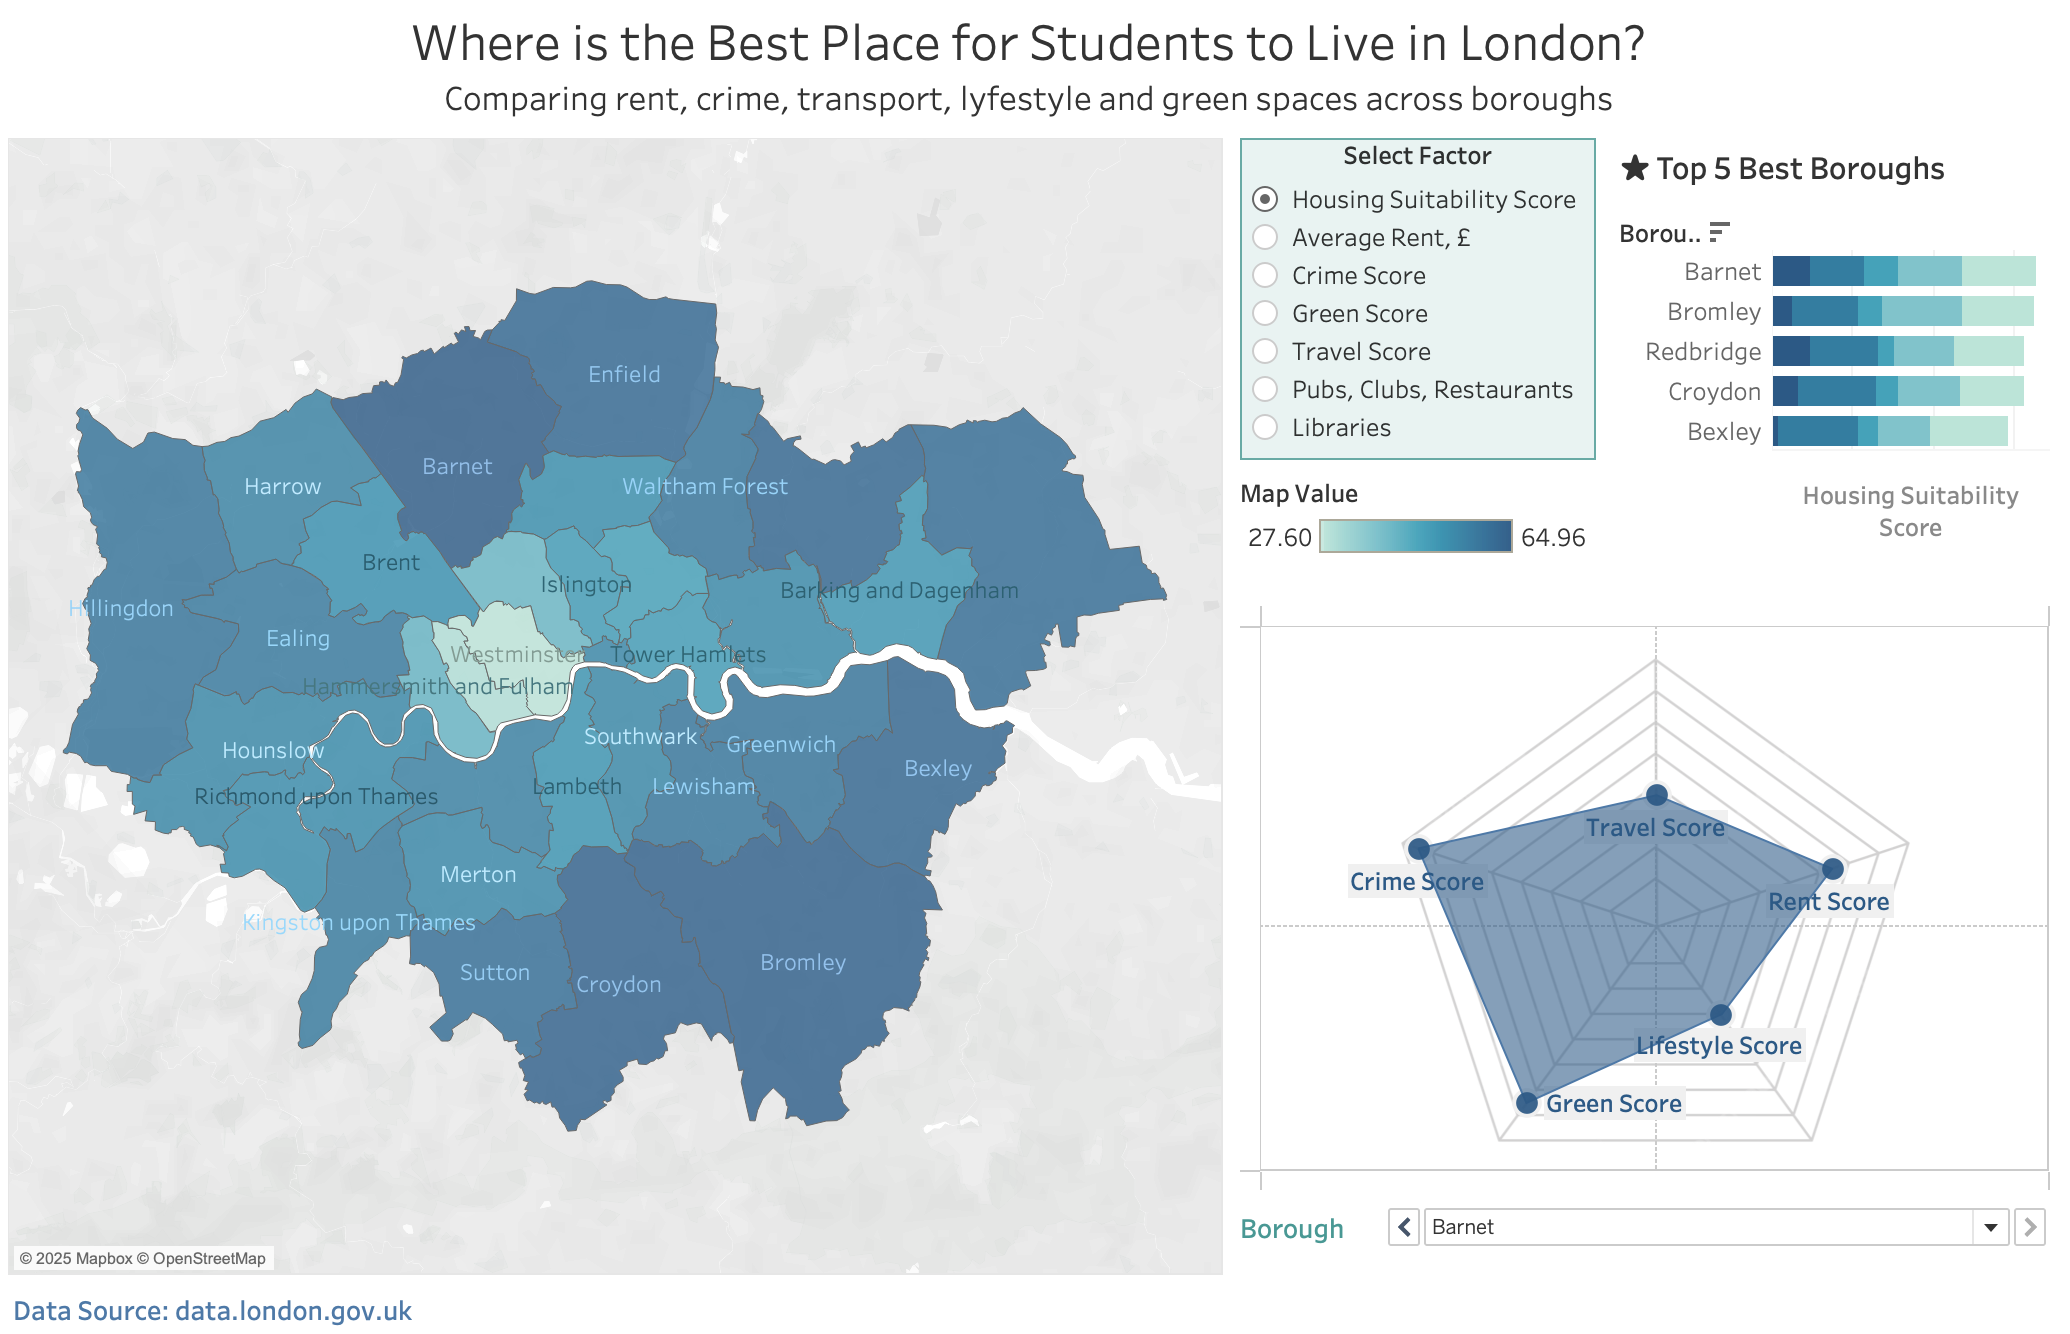

The dashboard page shown, as its layout file describes it:
{"tool":"tableau","page":{"name":"Finding Affordable & Safe Housing in London for Students (2)","canvas":[1029,668],"ordinal":1},"visuals":[{"type":"title","box":[0,0,1029,65]},{"type":"worksheet","title":"HSS map","mark":"Automatic","box":[0,65,616,577]},{"type":"parameter","param":"[Parameters].[Parameter 1]","box":[616,65,186,169]},{"type":"worksheet","title":"Best Borough","mark":"Automatic","rows":["BoroughName"],"cols":["Pivot Field Values"],"box":[802,65,227,234]},{"type":"legend","title":"HSS map","param":"[federated.13ov4m71btjjpl16qfg4c1hubzfp].[none:Calculation_6229322766499893249:q","box":[616,234,186,65]},{"type":"worksheet","title":"Radar_Chart","mark":"Polygon","box":[616,299,413,301]},{"type":"currpage","title":"Radar_Chart","box":[616,600,413,42]},{"type":"text","box":[0,642,1029,26]}]}

Visuals, with their boxes in screenshot pixels (x1, y1, x2, y2), scaled from the page's 1029x668 canvas onto the 2070x1334 screenshot:
title: bbox=[0, 0, 2069, 130]
"HSS map" worksheet: bbox=[0, 130, 1239, 1282]
parameter: bbox=[1239, 130, 1613, 467]
"Best Borough" worksheet: bbox=[1613, 130, 2069, 597]
"HSS map" legend: bbox=[1239, 467, 1613, 597]
"Radar_Chart" worksheet (Polygon marks): bbox=[1239, 597, 2069, 1198]
"Radar_Chart" currpage: bbox=[1239, 1198, 2069, 1282]
text: bbox=[0, 1282, 2069, 1333]
